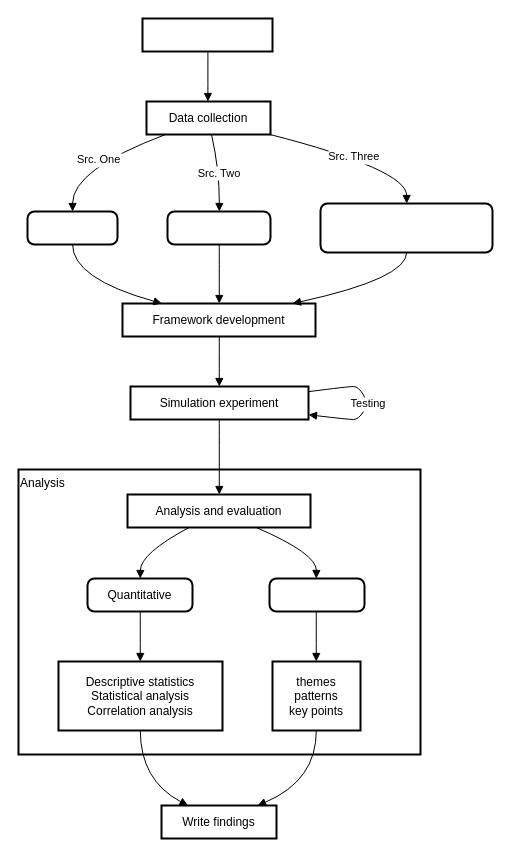
Some shapes in this 510 by 856 pixel diagram are drawn without their labels. Each missing label, with the centre of its shape:
Case studies: (218,227)
Expert interviews and questionaries: (406,227)
Lit Review: (72,227)
Qualitative: (316,594)
Research Design: (207,34)
